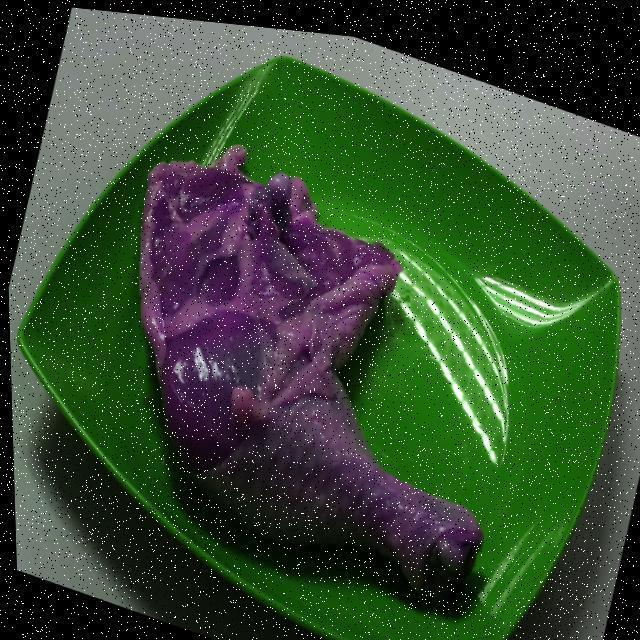quater: (134, 151, 480, 598)
